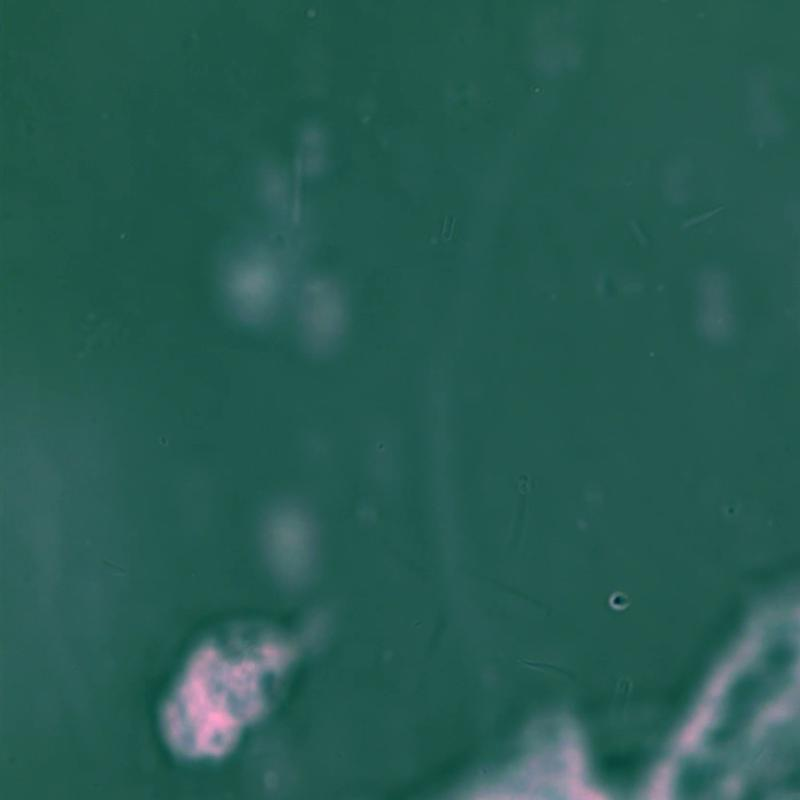depth:100: (116, 593, 435, 781)
